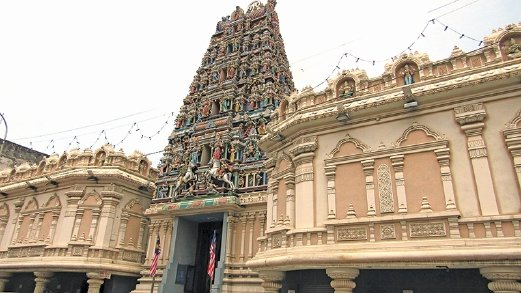Hindu Temple: (163, 4, 294, 279)
